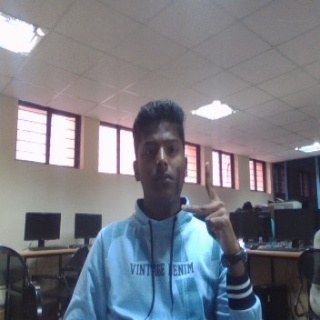Okay: (179, 159, 237, 254)
